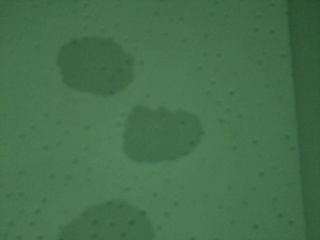Water_detected: (127, 107, 186, 162), (80, 201, 136, 239), (69, 41, 119, 79)
